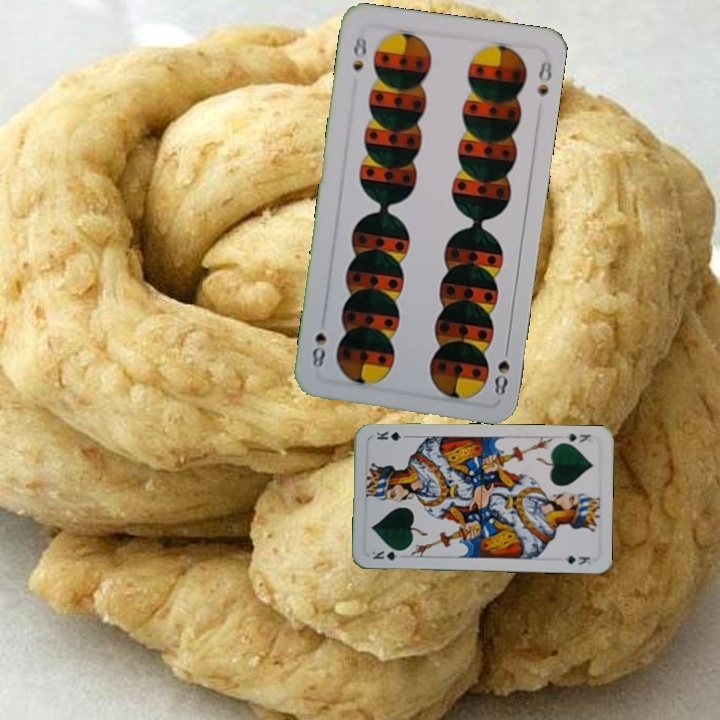GK: (368, 546, 407, 563), (562, 429, 594, 445)
S8: (490, 340, 512, 399), (348, 31, 370, 74)
